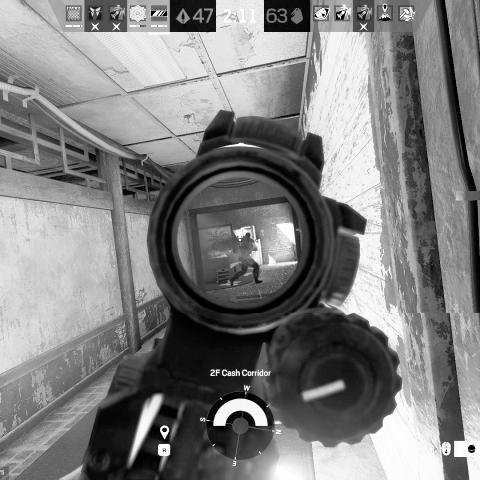Character: (230, 231, 264, 286)
Head: (245, 232, 251, 238)
